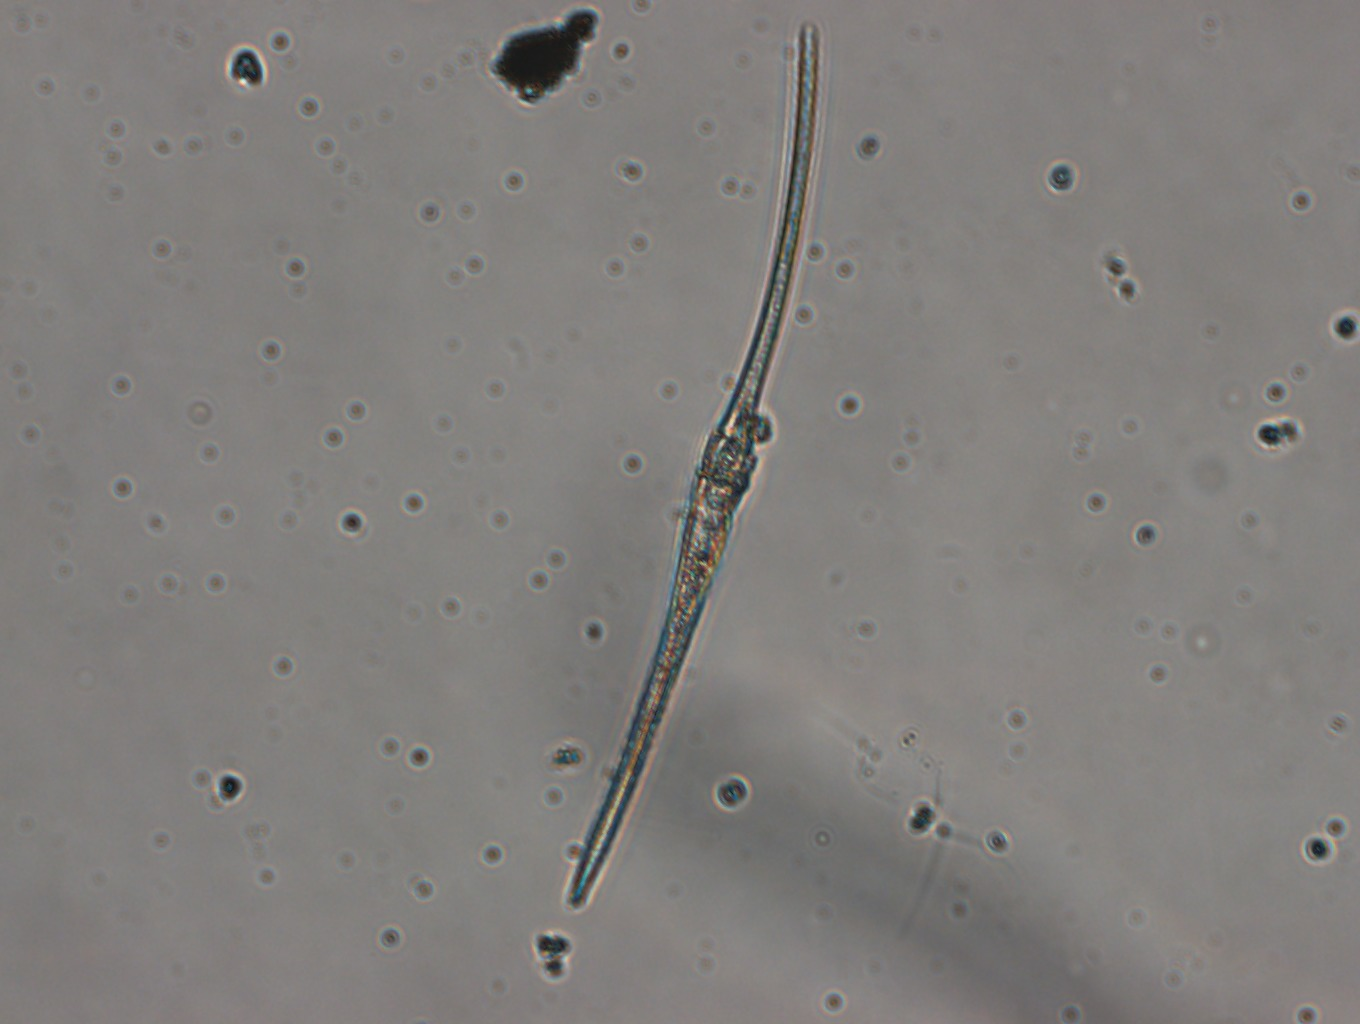ceratium fusus: (562, 15, 824, 914)
